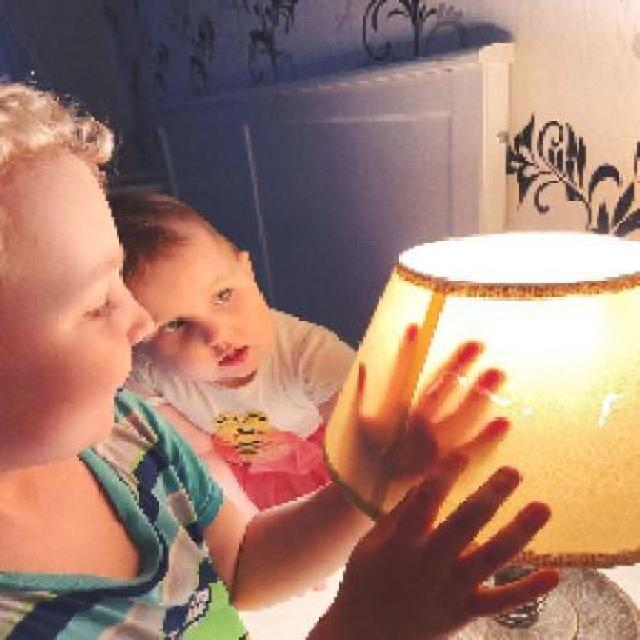child: (3, 82, 566, 638), (123, 186, 363, 512)
